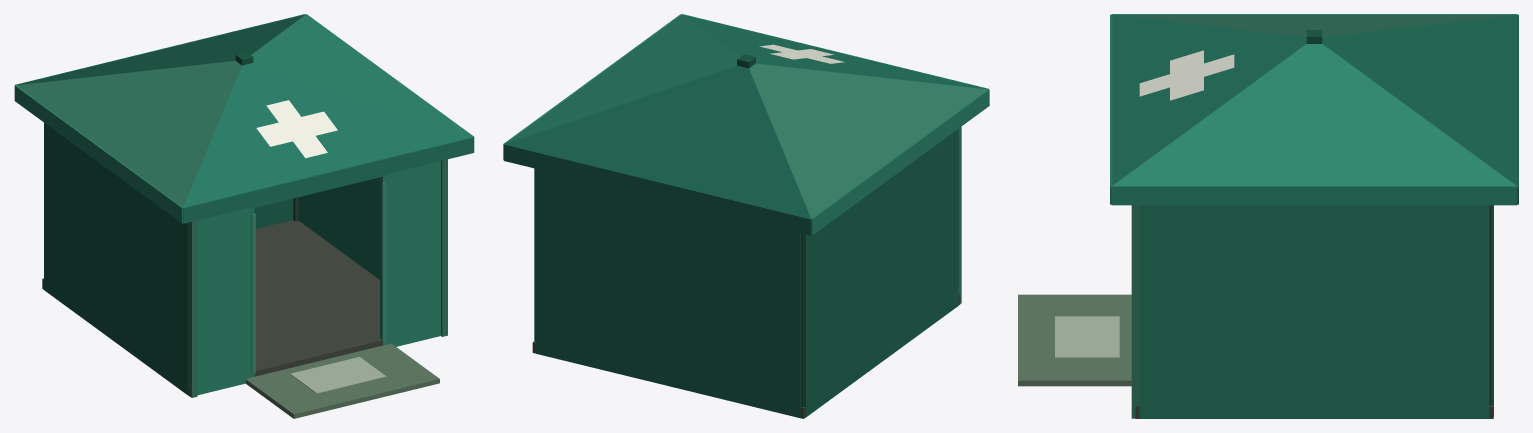
Rendered from lwf_first_aid_point_v2.glb.
3 renders of one model, left to right at view 1: azimuth 30°, elevation 25°; view 2: azimuth 150°, elevation 25°; view 3: azimuth 270°, elevation 25°, orthographic. The views are drawn at different scales.
Parts seen in each view (by area): view 1: LWF_FirstAidV2_GreenWalls, LWF_FirstAidV2_PeakedCanopy, LWF_FirstAidV2_PopupFrame, LWF_FirstAidV2_ResponseApproach, LWF_FirstAidV2_RoofCross; view 2: LWF_FirstAidV2_GreenWalls, LWF_FirstAidV2_PeakedCanopy, LWF_FirstAidV2_PopupFrame, LWF_FirstAidV2_RoofCross; view 3: LWF_FirstAidV2_GreenWalls, LWF_FirstAidV2_PeakedCanopy, LWF_FirstAidV2_ResponseApproach, LWF_FirstAidV2_RoofCross, LWF_FirstAidV2_PopupFrame.
Part boxes in pixels (bbox=[...]): LWF_FirstAidV2_GreenWalls: bbox=[44, 123, 447, 397]; LWF_FirstAidV2_PeakedCanopy: bbox=[14, 14, 474, 223]; LWF_FirstAidV2_PopupFrame: bbox=[42, 197, 382, 396]; LWF_FirstAidV2_ResponseApproach: bbox=[245, 343, 439, 418]; LWF_FirstAidV2_RoofCross: bbox=[256, 100, 337, 158]; LWF_FirstAidV2_GreenWalls: bbox=[534, 126, 961, 418]; LWF_FirstAidV2_PeakedCanopy: bbox=[503, 14, 989, 235]; LWF_FirstAidV2_PopupFrame: bbox=[532, 168, 960, 418]; LWF_FirstAidV2_RoofCross: bbox=[759, 44, 844, 63]; LWF_FirstAidV2_GreenWalls: bbox=[1131, 205, 1493, 418]; LWF_FirstAidV2_PeakedCanopy: bbox=[1110, 14, 1518, 205]; LWF_FirstAidV2_ResponseApproach: bbox=[1018, 294, 1131, 386]; LWF_FirstAidV2_RoofCross: bbox=[1139, 50, 1234, 100]; LWF_FirstAidV2_PopupFrame: bbox=[1135, 205, 1493, 418].
Bounding box in the file's own units: 3.37 × 2.81 × 4.12.
Materials: 1 (1 with a texture image).
